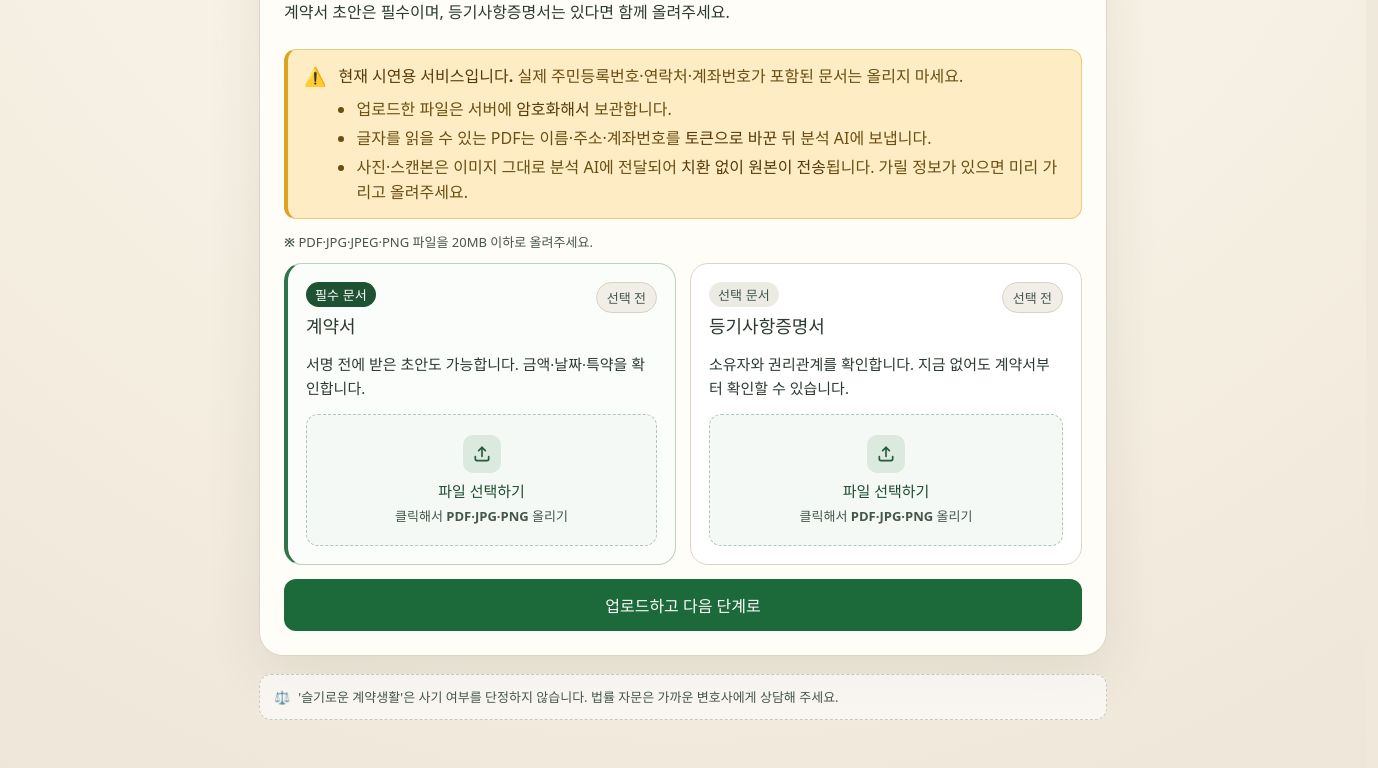
Test: DocumentUploadPage › shows preparation guidance when submitted without a contract document
(page scrolled)
Click the button "업로드하고 다음 단계로" at (683, 605), box [284, 579, 1082, 631]
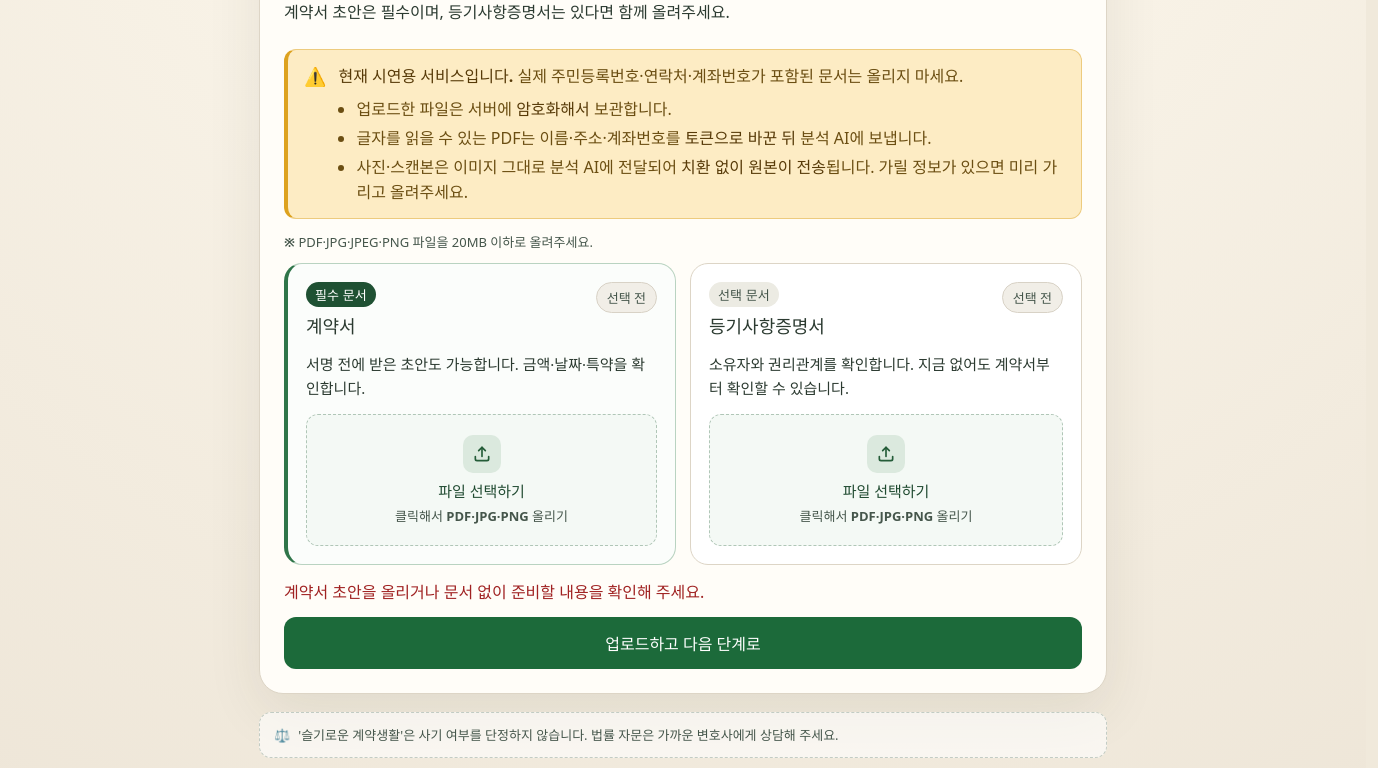
Expected: the message reads "계약서 초안을 올리거나 문서 없이 준비할 내용을 확인해 주세요.", [284, 581, 704, 603]
